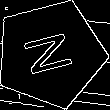N_E: (20, 28, 81, 80)
